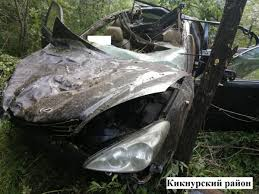car: (19, 11, 226, 170)
